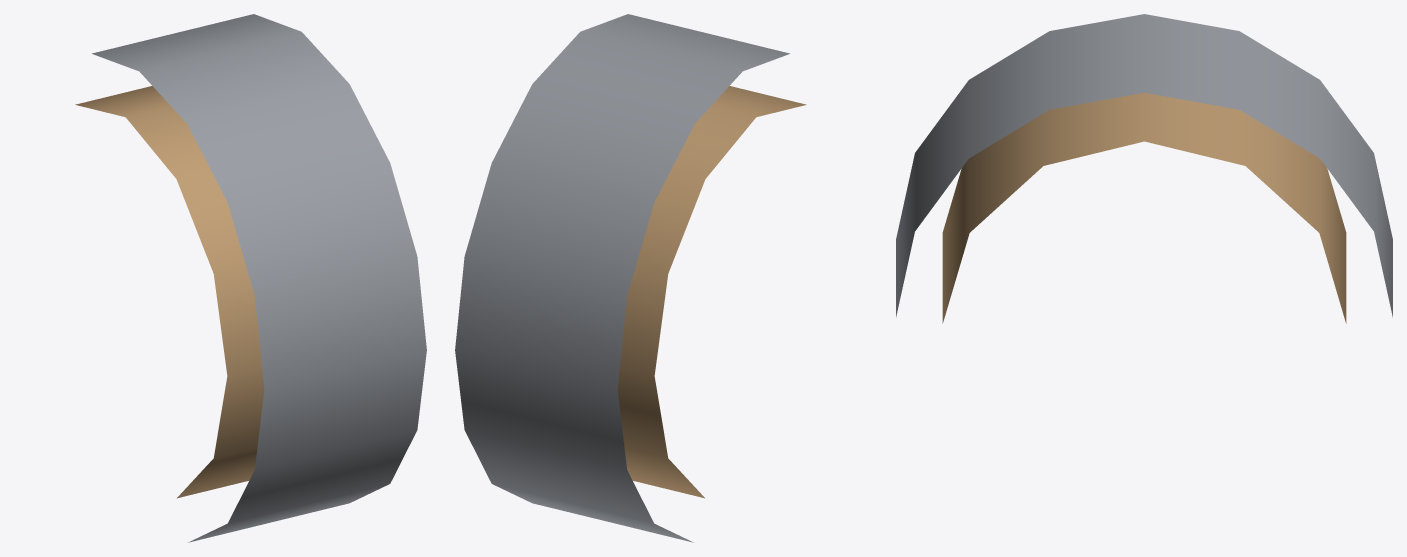
Rendered from castle_wheel.glb.
The picture shows the model from 3 angles, left to right: view 1: azimuth 30°, elevation 25°; view 2: azimuth 150°, elevation 25°; view 3: azimuth 270°, elevation 25°; orthographic projection.
Visible parts, largest first — view 1: castle_wheel_root; view 2: castle_wheel_root; view 3: castle_wheel_root.
Boxes of the visible parts, x1,y1,x2,y2 form: castle_wheel_root: (75, 14, 426, 542); castle_wheel_root: (455, 14, 806, 542); castle_wheel_root: (896, 14, 1392, 323).
Size of the model in its own units: 7 by 16 by 16.
